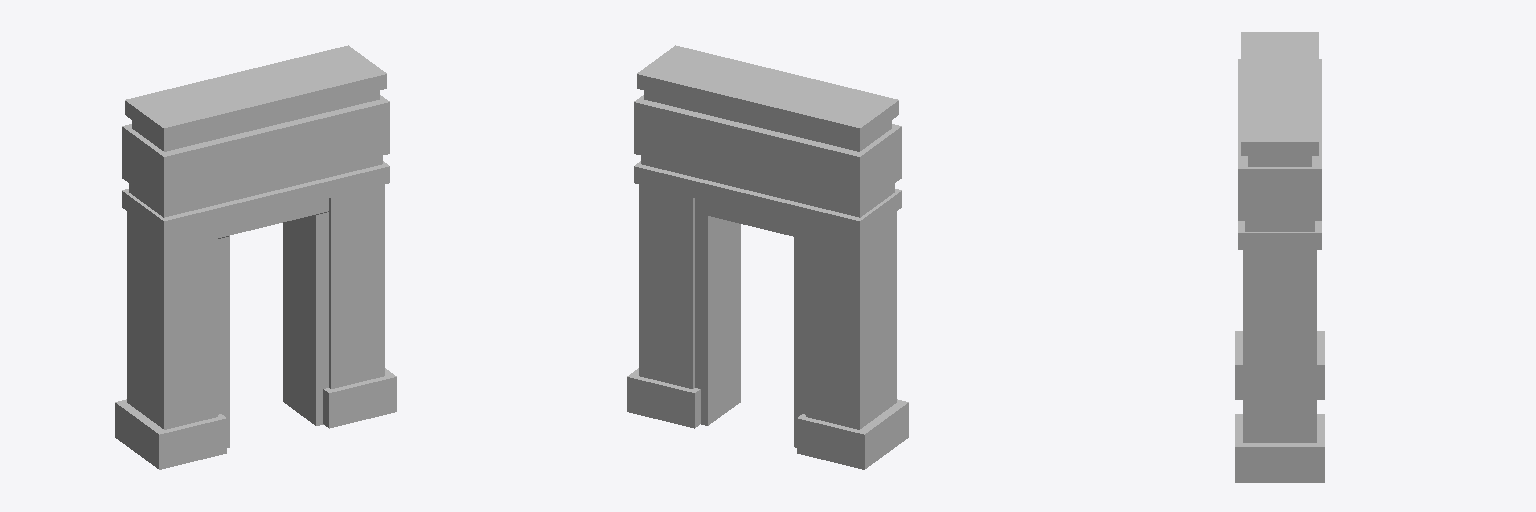
Rendered from Door_Frame.obj.
The picture shows the model from 3 angles: view 1: azimuth 30°, elevation 25°; view 2: azimuth 150°, elevation 25°; view 3: azimuth 270°, elevation 25°; orthographic projection.
Visible parts, largest first — view 1: DoorFrame; view 2: DoorFrame; view 3: DoorFrame.
Part boxes in pixels (left/top/right/bottom): DoorFrame: left=115, top=45, right=396, bottom=469; DoorFrame: left=627, top=45, right=908, bottom=469; DoorFrame: left=1235, top=32, right=1324, bottom=482.
Size of the model in its own units: 7.05 by 9.58 by 2.29.